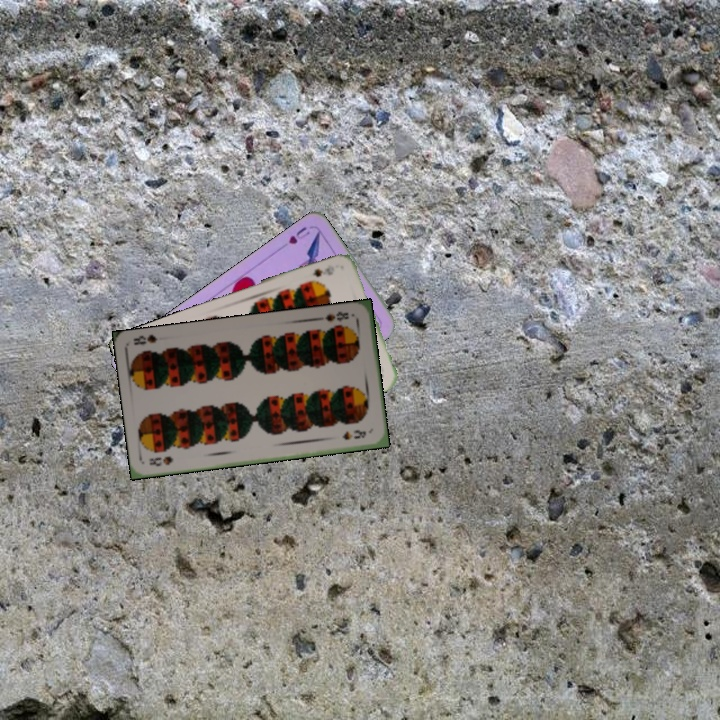HU: (285, 223, 312, 247)
S8: (316, 307, 351, 324), (145, 452, 176, 469)
S9: (308, 260, 337, 279)
